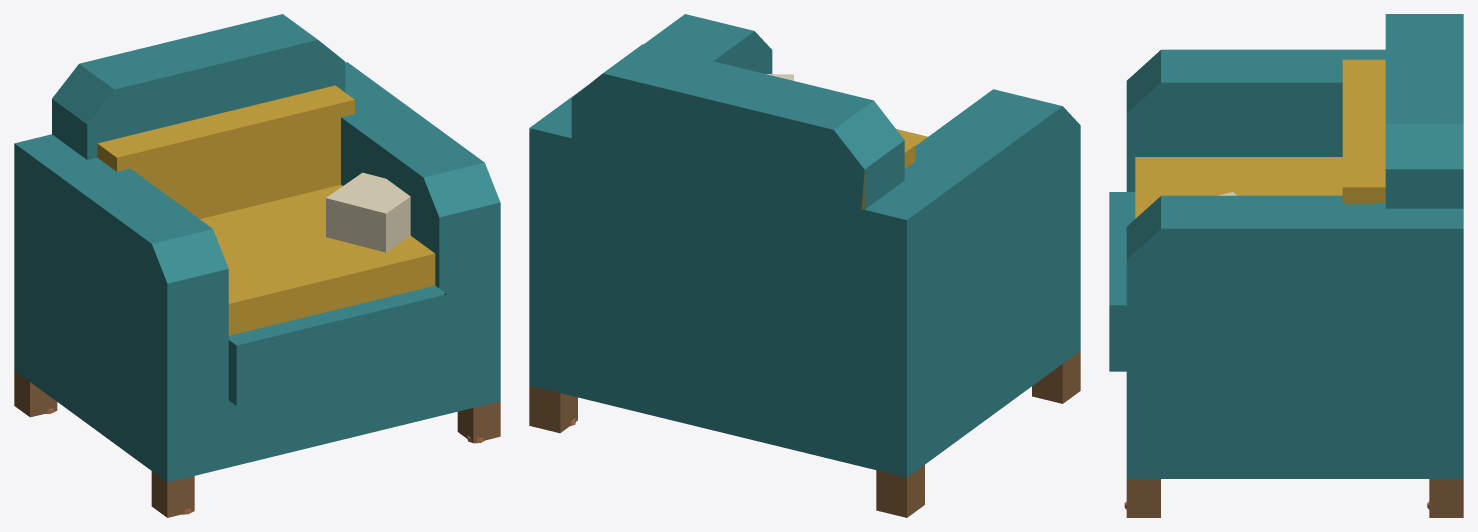
The model's file is loungeChair.glb.
3 views of the same model, side by side, from view 1: azimuth 30°, elevation 25°; view 2: azimuth 150°, elevation 25°; view 3: azimuth 270°, elevation 25° (orthographic). The views are drawn at different scales.
Parts seen in each view (by area): view 1: loungeChair(Clone); view 2: loungeChair(Clone); view 3: loungeChair(Clone).
Part boxes in pixels (x1,y1,x2,y2): loungeChair(Clone): (14,14,500,517); loungeChair(Clone): (529,14,1080,517); loungeChair(Clone): (1109,14,1463,517).
Bounding box in the file's own units: 0.49 × 0.46 × 0.41.
